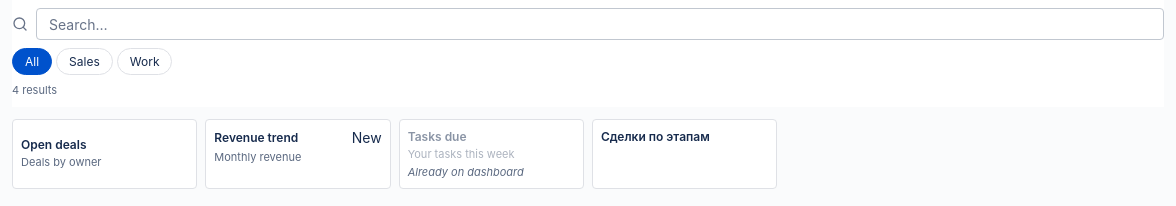
Test: CatalogPicker › matches Cyrillic case-insensitively
Type "  сДЕЛКИ " into the search field at (600, 24), box [36,8,1164,40]
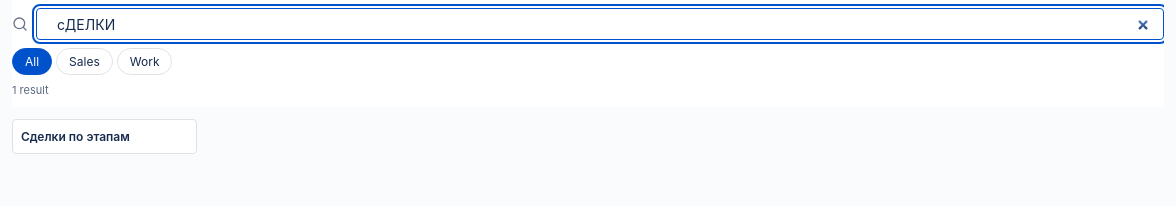
Now the number of options is 1, box [12,119,197,154]
